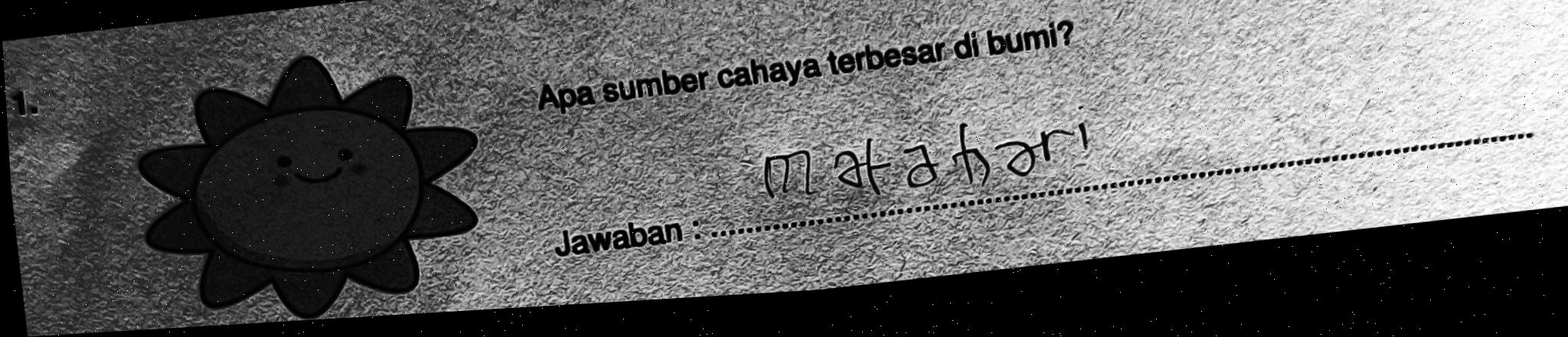jawaban: (754, 98, 1097, 211)
